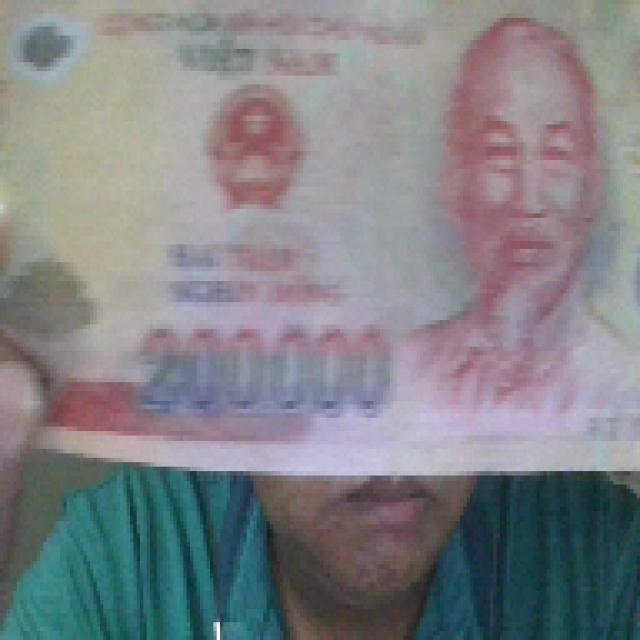200 000 VND: (0, 0, 637, 471)
